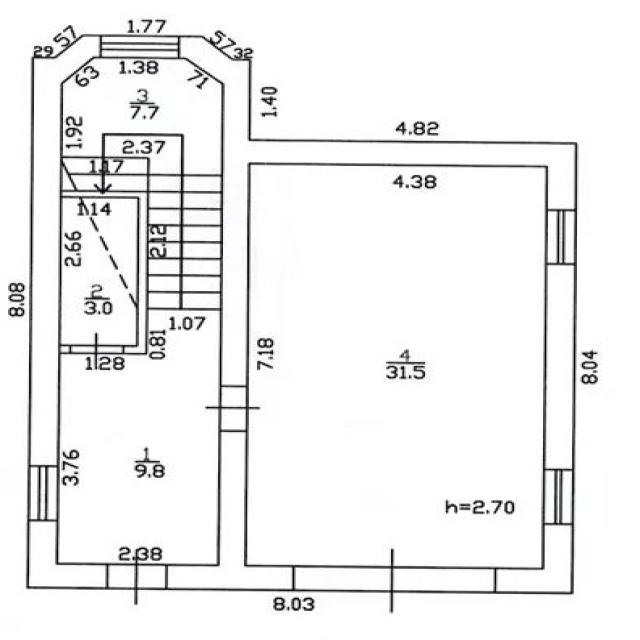Corridors: (65, 200, 135, 344)
Doors: (293, 545, 496, 614), (107, 548, 169, 604), (204, 385, 262, 431), (69, 330, 124, 375)
LBwalls: (180, 34, 578, 387), (27, 33, 101, 467), (167, 431, 293, 592), (545, 265, 575, 469), (25, 522, 107, 591), (495, 525, 575, 595)
Offices: (251, 166, 541, 564), (61, 356, 218, 564)
Stairs: (62, 59, 221, 355)
Walls: (61, 190, 149, 355), (59, 344, 71, 354)
Windows: (99, 34, 180, 61), (545, 209, 578, 266), (27, 465, 59, 522), (542, 468, 574, 524)
